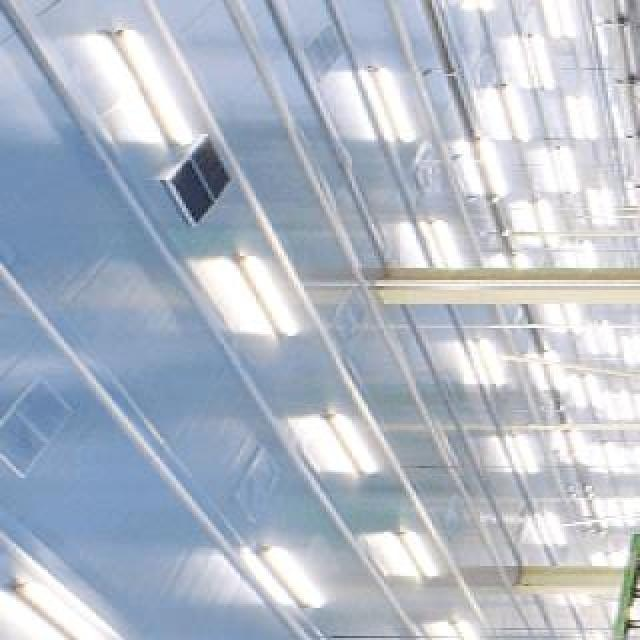fluorescent tube: (107, 9, 195, 160), (8, 582, 138, 640), (246, 531, 337, 613), (324, 387, 391, 493), (242, 244, 313, 340), (356, 53, 429, 143), (418, 209, 482, 295), (393, 514, 455, 583), (467, 331, 513, 400), (491, 77, 531, 147), (500, 420, 544, 482), (540, 498, 576, 553), (438, 614, 494, 640)
